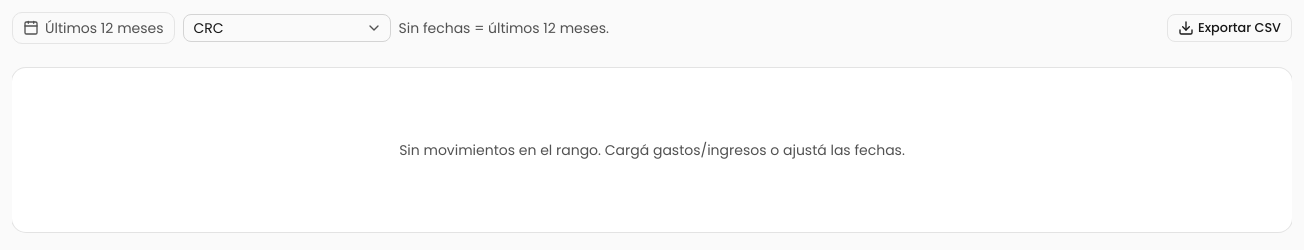
it: PnlDashboard — el selector dice la moneda que se está pintando › sin datos ofrece las dos: un selector vacío no se puede usar ni para volver
The image size is (1304, 250).
What coordinates should you click on to do the following:
click the dropdown named "Moneda"
I would click on:
 (286, 28)
Its box is [182, 14, 390, 42].
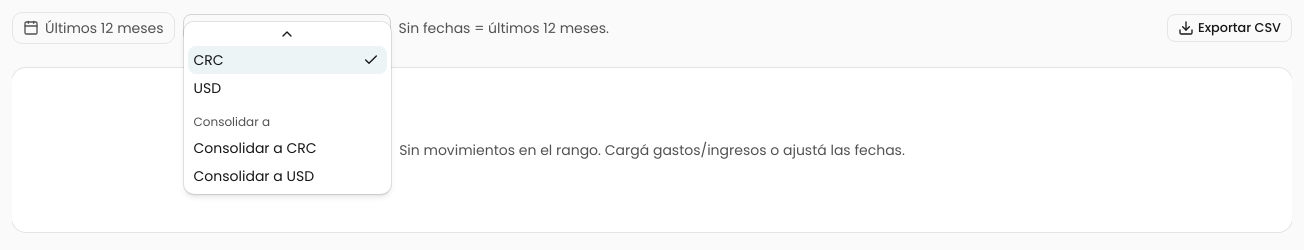
Check: the option "CRC" is shown, box [188, 46, 386, 74]
Check: the option "USD" is shown, box [194, 78, 221, 98]
